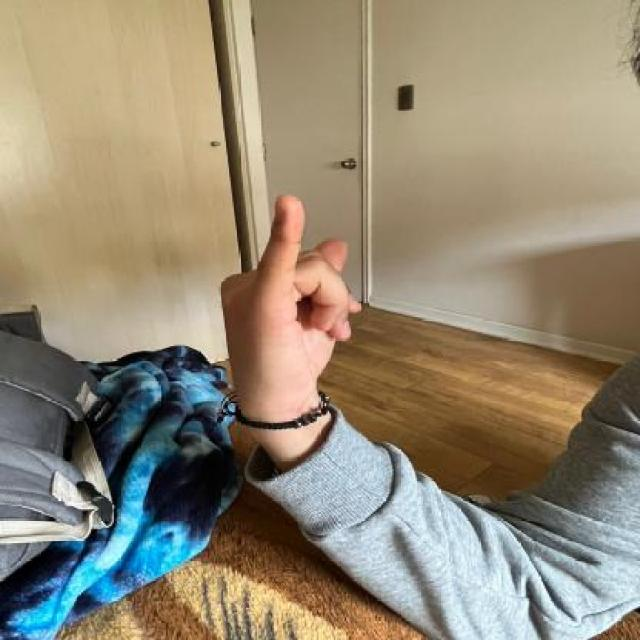I: (211, 187, 367, 425)
